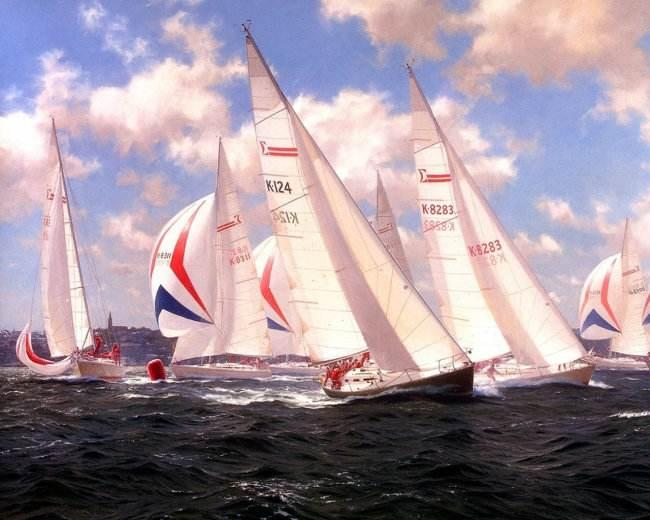fanchuan: (242, 5, 472, 397), (396, 52, 601, 389), (16, 114, 134, 385), (148, 135, 273, 387)
